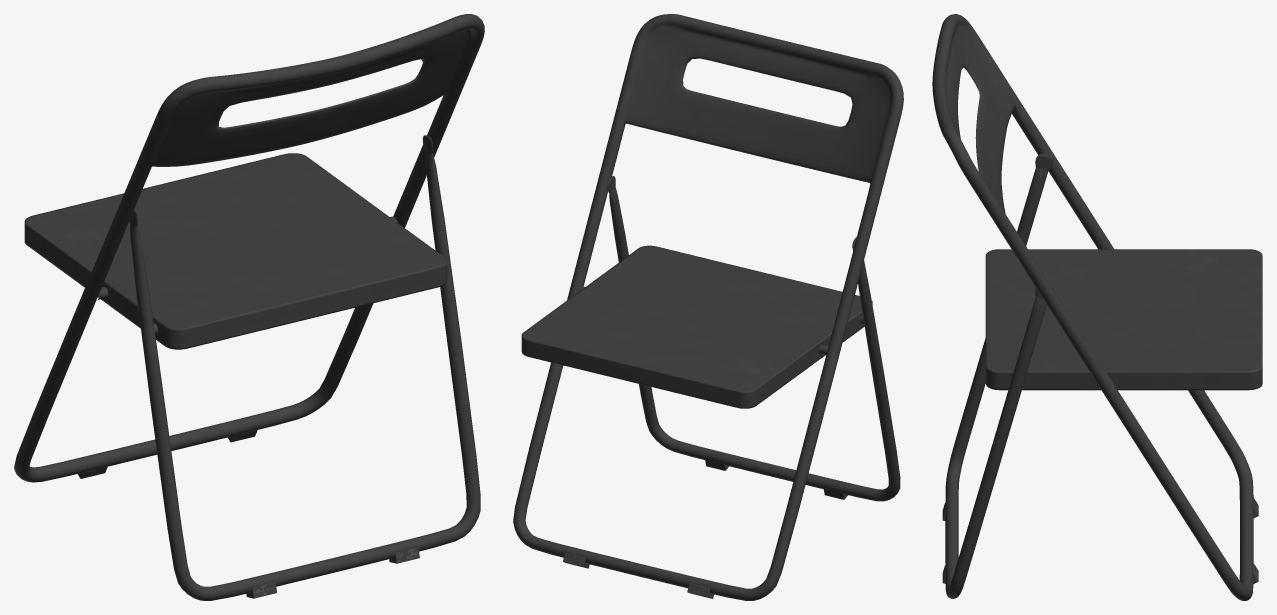
File: Chair38.glb
3 views of the same model, side by side, from view 1: azimuth 30°, elevation 25°; view 2: azimuth 150°, elevation 25°; view 3: azimuth 270°, elevation 25° (orthographic). The views are drawn at different scales.
Visible parts, largest first — view 1: Chair38_model; view 2: Chair38_model; view 3: Chair38_model.
Boxes of the visible parts, left/top/right/bottom form: Chair38_model: left=14, top=14, right=484, bottom=600; Chair38_model: left=513, top=14, right=903, bottom=600; Chair38_model: left=932, top=14, right=1262, bottom=600.
Bounding box in the file's own units: 1.04 × 1.64 × 1.03.
Materials: 1 (1 with a texture image).
